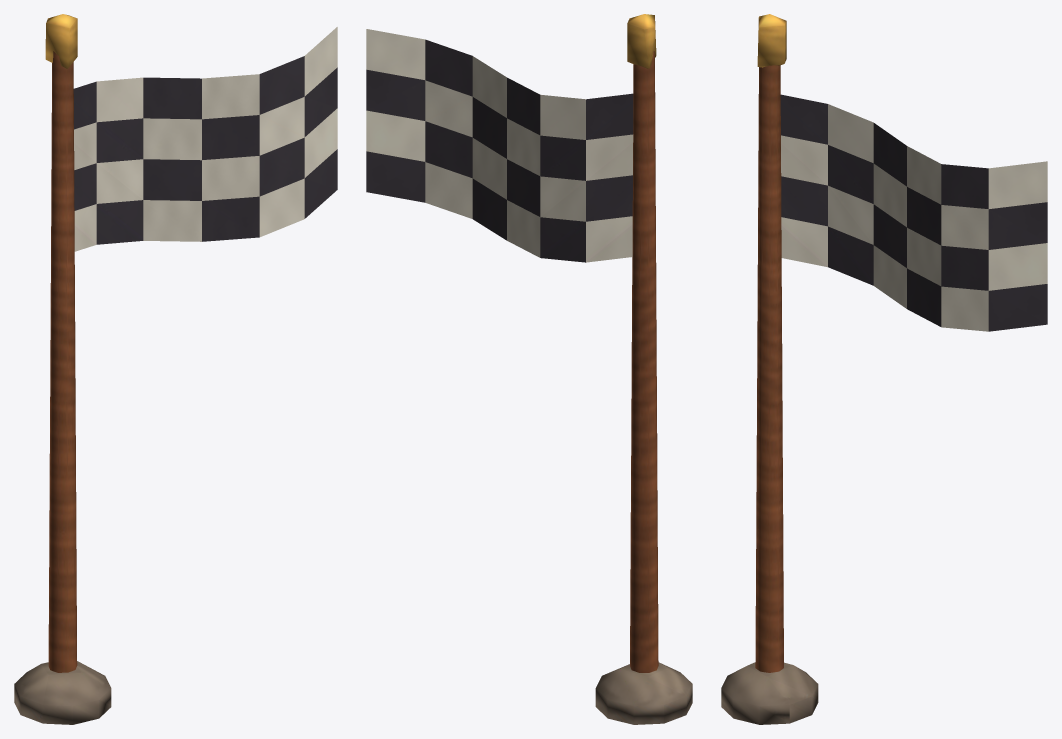
Rendered from race_flag.glb.
3 views of the same model, side by side, from view 1: azimuth 30°, elevation 25°; view 2: azimuth 150°, elevation 25°; view 3: azimuth 330°, elevation 25° (orthographic).
Parts seen in each view (by area): view 1: Body; view 2: Body; view 3: Body.
Part boxes in pixels (x1,y1,x2,y2): Body: (14, 14, 337, 724); Body: (366, 14, 692, 724); Body: (721, 14, 1047, 724).
Bounding box in the file's own units: 0.98 × 2.03 × 0.2473.
Materials: 1 (1 with a texture image).
